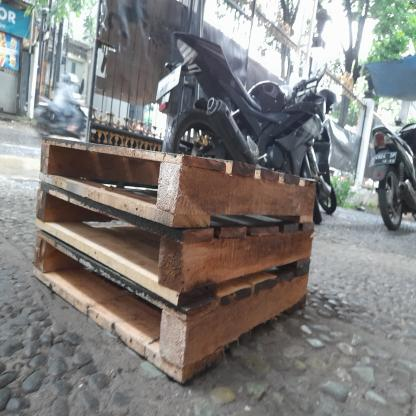Wooden-Pallet: (33, 229, 310, 389), (36, 182, 316, 306), (38, 134, 317, 227)
